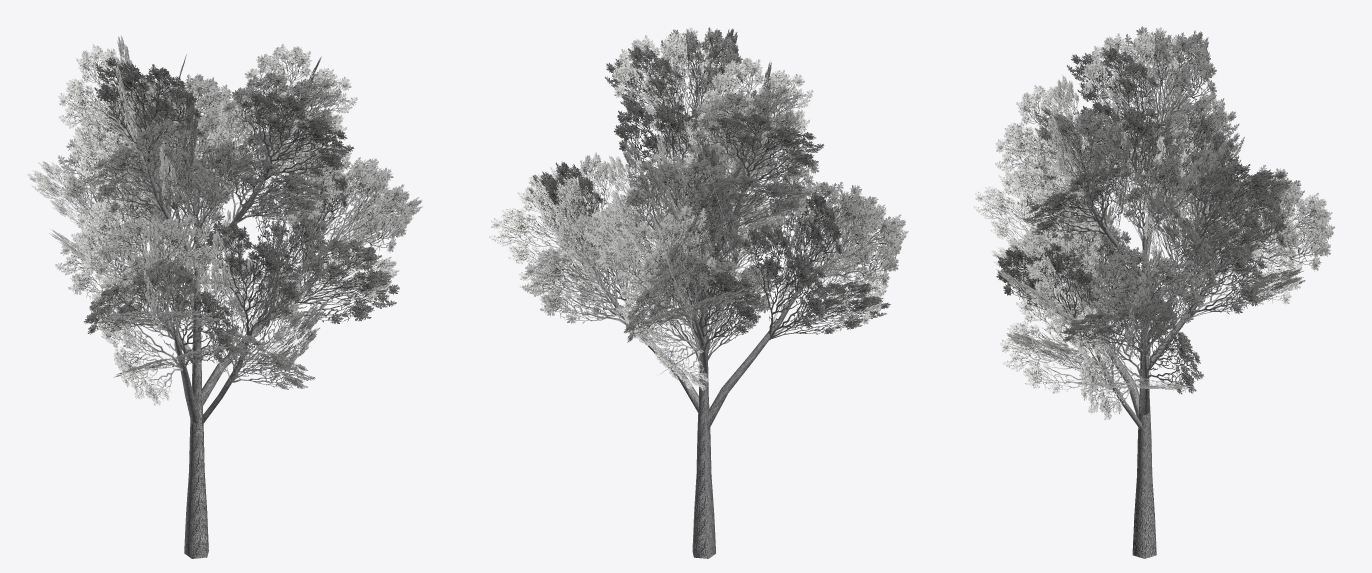
The model's file is winter tree1.FBX.
3 renders of one model, left to right at view 1: azimuth 30°, elevation 25°; view 2: azimuth 150°, elevation 25°; view 3: azimuth 270°, elevation 25°, orthographic. The views are drawn at different scales.
Parts seen in each view (by area): view 1: winter tree1; view 2: winter tree1; view 3: winter tree1.
Boxes of the visible parts, box(x1,y1,x2,y2) form: winter tree1: box(27, 35, 422, 558); winter tree1: box(489, 27, 908, 558); winter tree1: box(973, 26, 1334, 558).
Size of the model in its own units: 66.63 by 84.42 by 60.38.
